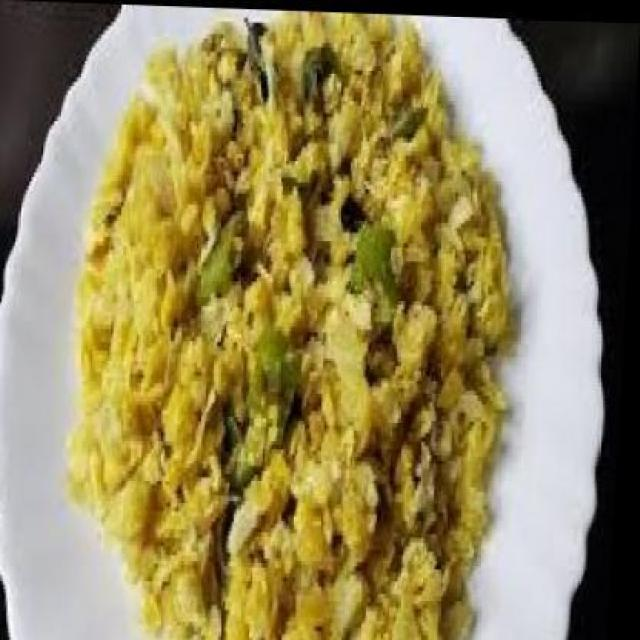poha: (63, 3, 534, 640)
